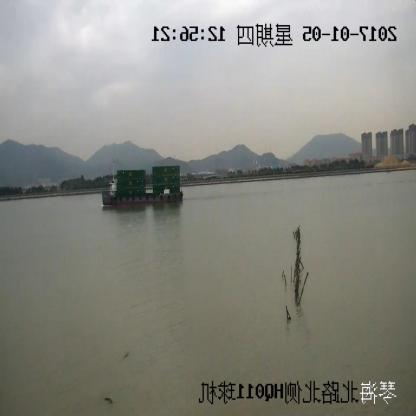Container Ship: (103, 164, 184, 208)
